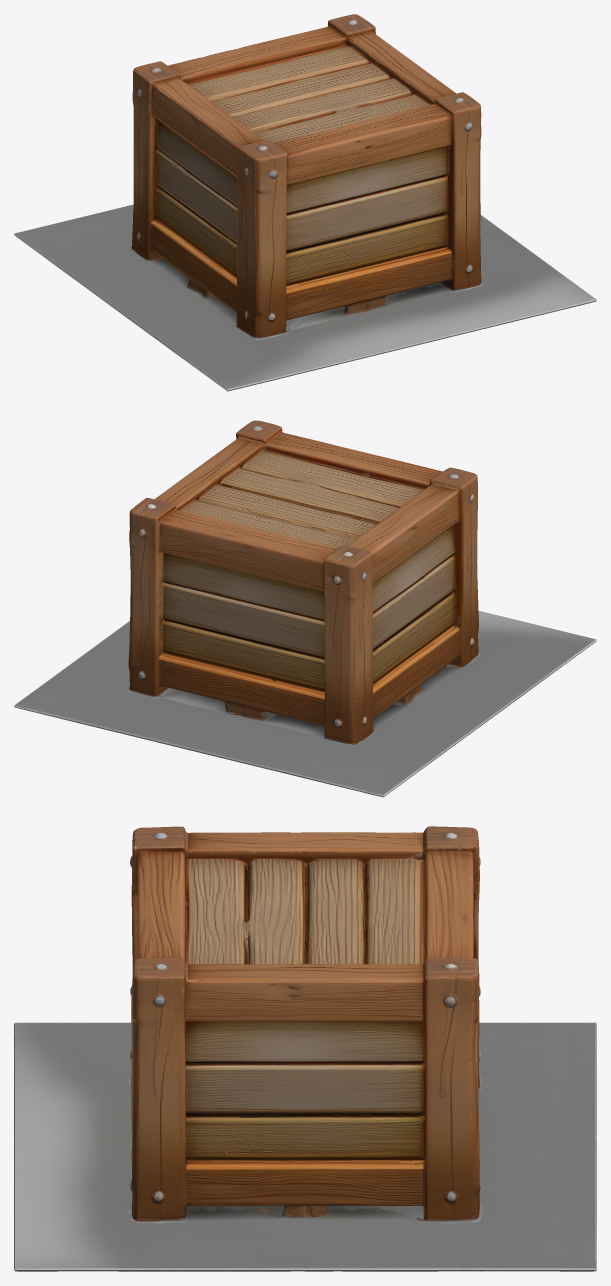
File: crate.glb
The picture shows the model from 3 angles, top to bottom: view 1: azimuth 30°, elevation 25°; view 2: azimuth 150°, elevation 25°; view 3: azimuth 270°, elevation 25°; orthographic projection. The views are drawn at different scales.
Parts seen in each view (by area): view 1: textured_mesh.obj; view 2: textured_mesh.obj; view 3: textured_mesh.obj.
Boxes of the visible parts, bbox=[...] form: textured_mesh.obj: bbox=[14, 14, 596, 391]; textured_mesh.obj: bbox=[14, 420, 596, 797]; textured_mesh.obj: bbox=[14, 826, 596, 1271].
Size of the model in its own units: 1.99 by 0.9541 by 1.99.
Materials: 1 (1 with a texture image).
